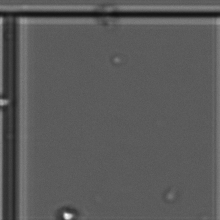Living Cell: (57, 205, 80, 218), (1, 94, 11, 110)
